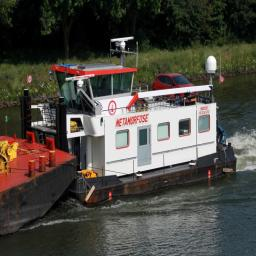tugboat: (20, 36, 241, 213)
